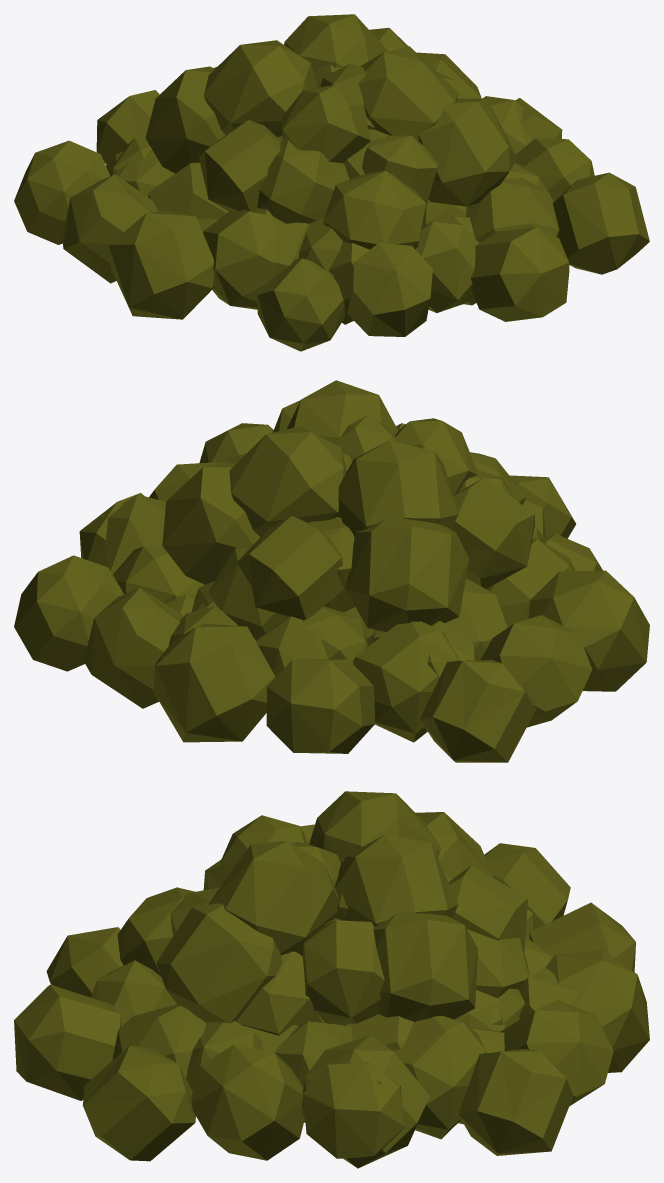
The model's file is Pile of Greens.fbx.
3 renders of one model, top to bottom at view 1: azimuth 30°, elevation 25°; view 2: azimuth 150°, elevation 25°; view 3: azimuth 270°, elevation 25°, orthographic. The views are drawn at different scales.
Parts seen in each view (by area): view 1: Pile of Greens; view 2: Pile of Greens; view 3: Pile of Greens.
Part boxes in pixels (x1,y1,x2,y2): Pile of Greens: (14, 14, 649, 351); Pile of Greens: (14, 380, 649, 762); Pile of Greens: (14, 791, 649, 1168).
Bounding box in the file's own units: 64.43 × 29.36 × 67.76.
